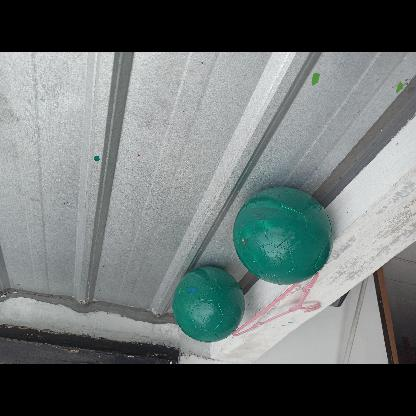green_ball: (234, 188, 332, 288), (170, 268, 246, 344)
